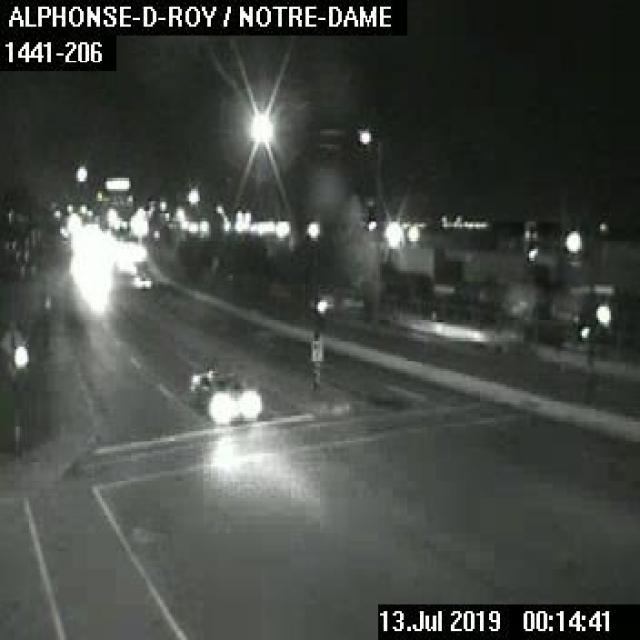vehicle: (189, 366, 260, 429), (129, 270, 153, 289)
